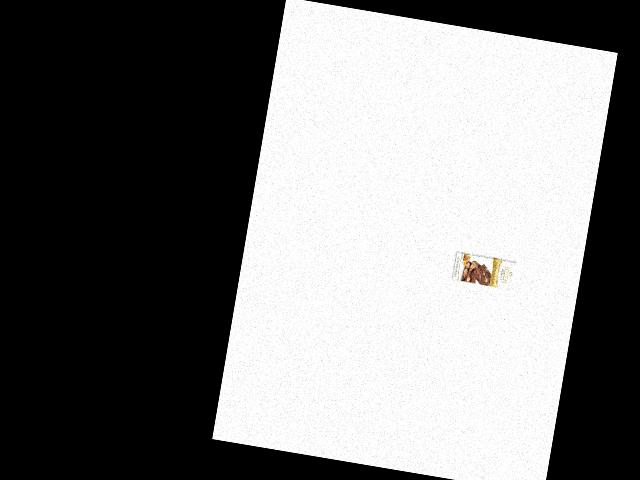chocolate: (450, 246, 522, 297)
